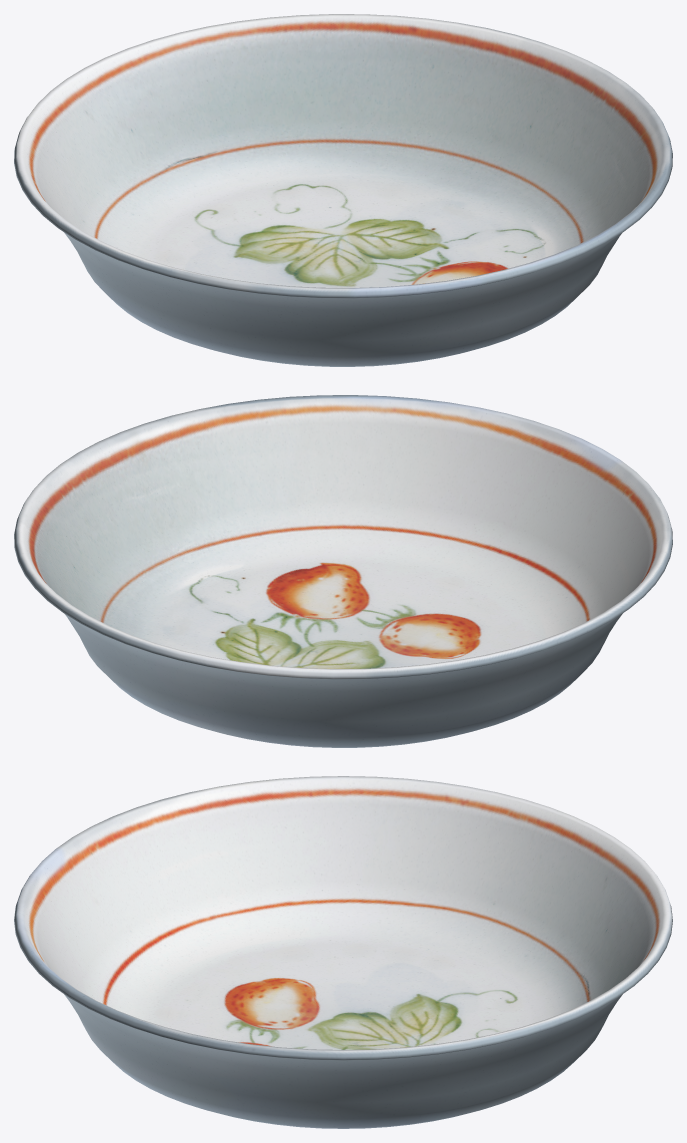
The model's file is SM_WhitePorcelainDish203.fbx.
3 renders of one model, top to bottom at view 1: azimuth 30°, elevation 25°; view 2: azimuth 150°, elevation 25°; view 3: azimuth 270°, elevation 25°, orthographic.
Visible parts, largest first — view 1: SM_WhitePorcelainDish203; view 2: SM_WhitePorcelainDish203; view 3: SM_WhitePorcelainDish203.
Boxes of the visible parts, <box> form: SM_WhitePorcelainDish203: <box>14,14,672,366</box>; SM_WhitePorcelainDish203: <box>14,395,672,747</box>; SM_WhitePorcelainDish203: <box>14,776,672,1128</box>.
Bounding box in the file's own units: 13.04 × 2.93 × 13.04.
Materials: 1 (1 with a texture image).
